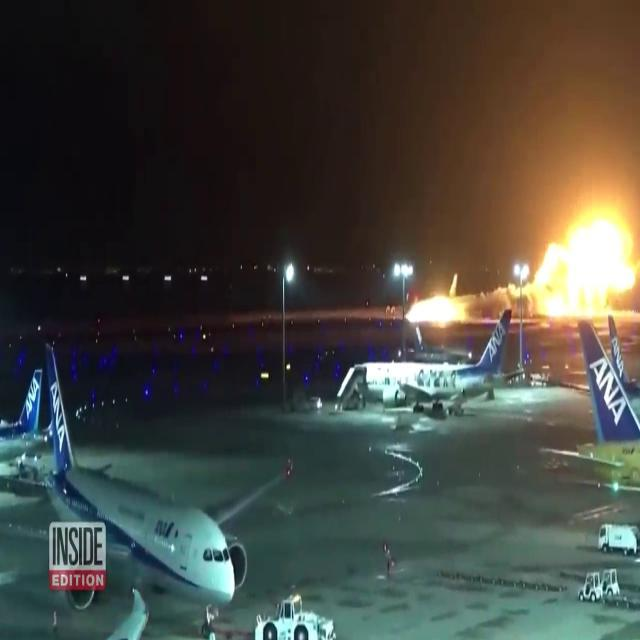Fire: (520, 196, 640, 320), (406, 278, 472, 333)
